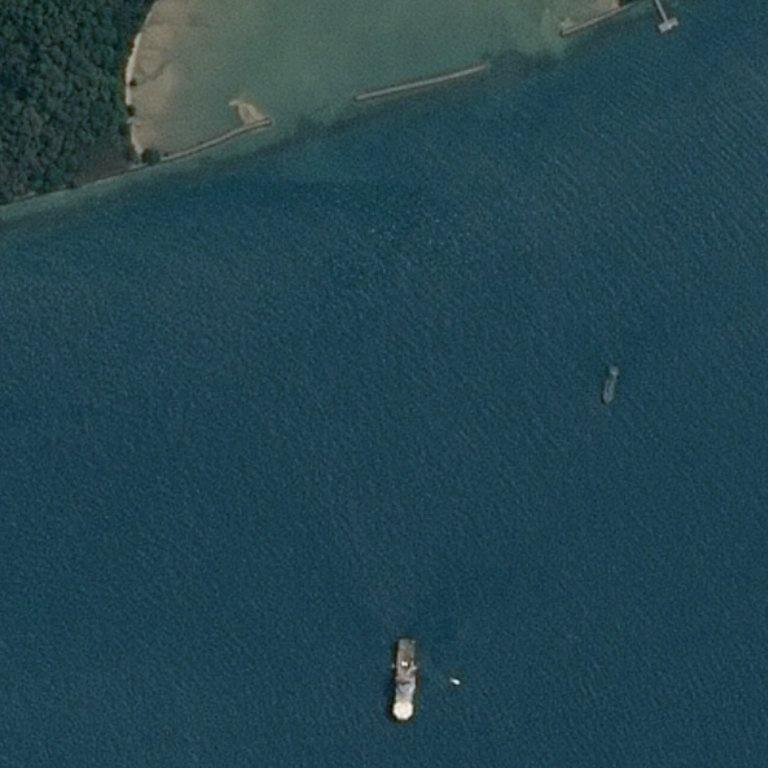ship: (598, 360, 623, 406), (391, 670, 422, 687), (381, 635, 389, 645), (600, 397, 611, 404), (387, 616, 396, 623), (396, 716, 408, 721), (615, 368, 622, 374), (606, 364, 612, 369)
